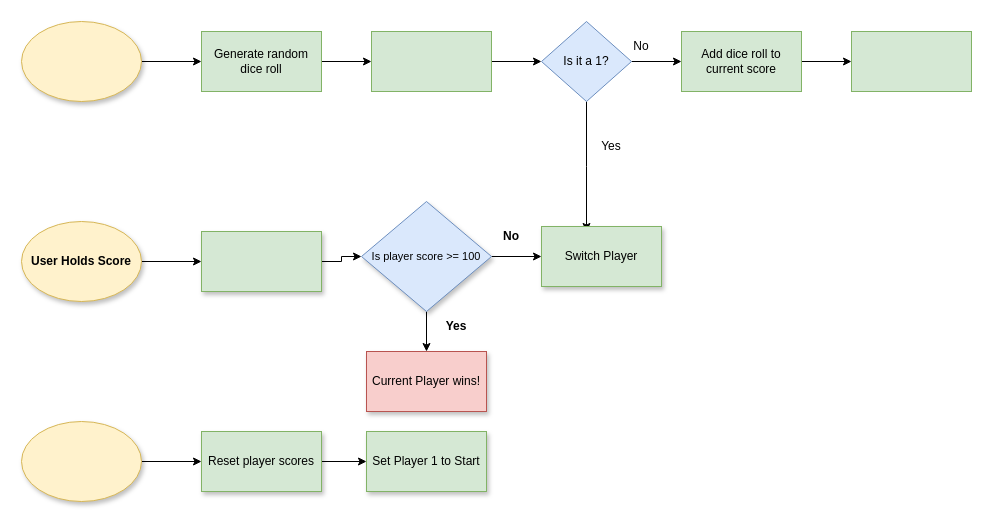
The diagram is 989 pixels wide and 526 high, and some of its shapes have lost their labels. Each missing label, with the centre of its shape:
"Add current to score" goes at (x=262, y=262).
"Display dice roll" goes at (x=431, y=61).
"Display new score" goes at (x=911, y=61).
"User Resets Game" goes at (x=82, y=462).
"User Rolls Dice" goes at (x=82, y=62).
